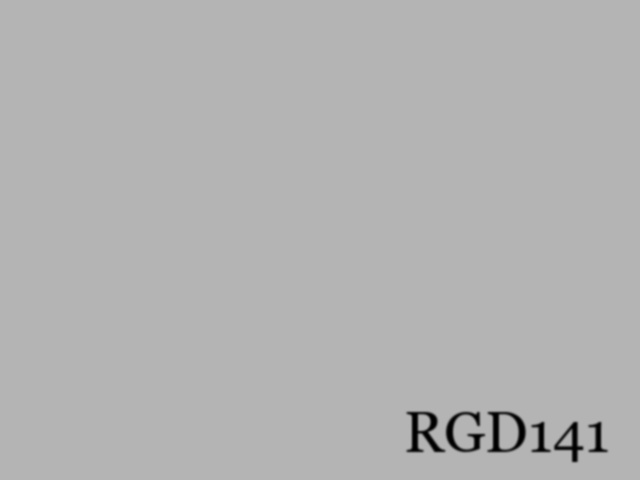OCR_AREA: (400, 408, 614, 466)
